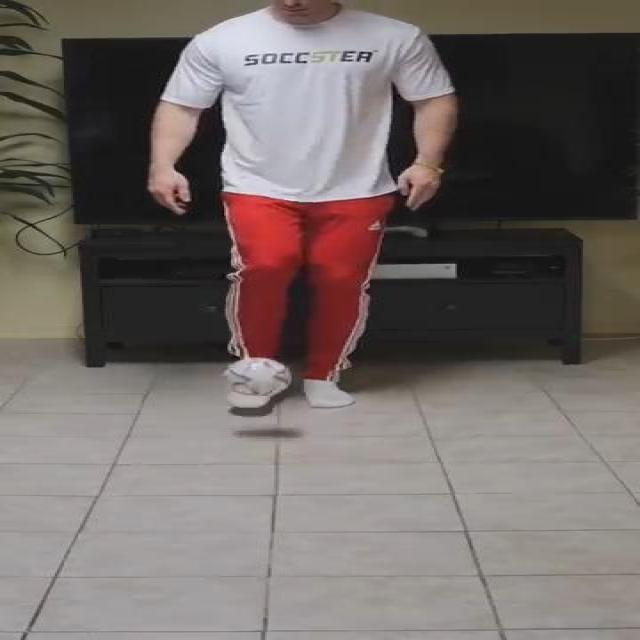Soccer Ball: (224, 357, 297, 400)
